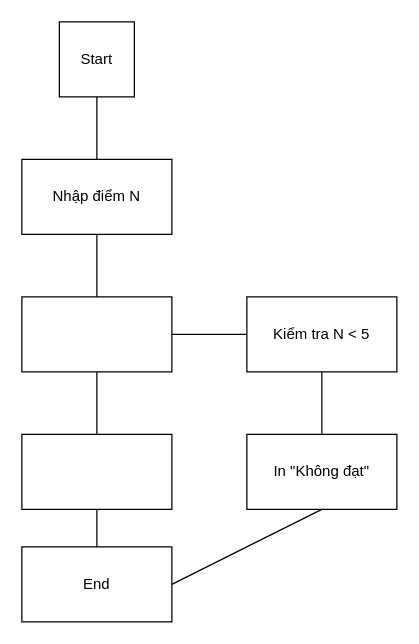
This 419x644 diagram has some shape labels left out. Here are the shapes that lost their labels. From the top down, the centre of each, then its label:
the point at 96,334: Kiểm tra N > 5
the point at 96,471: In "Đạt"
